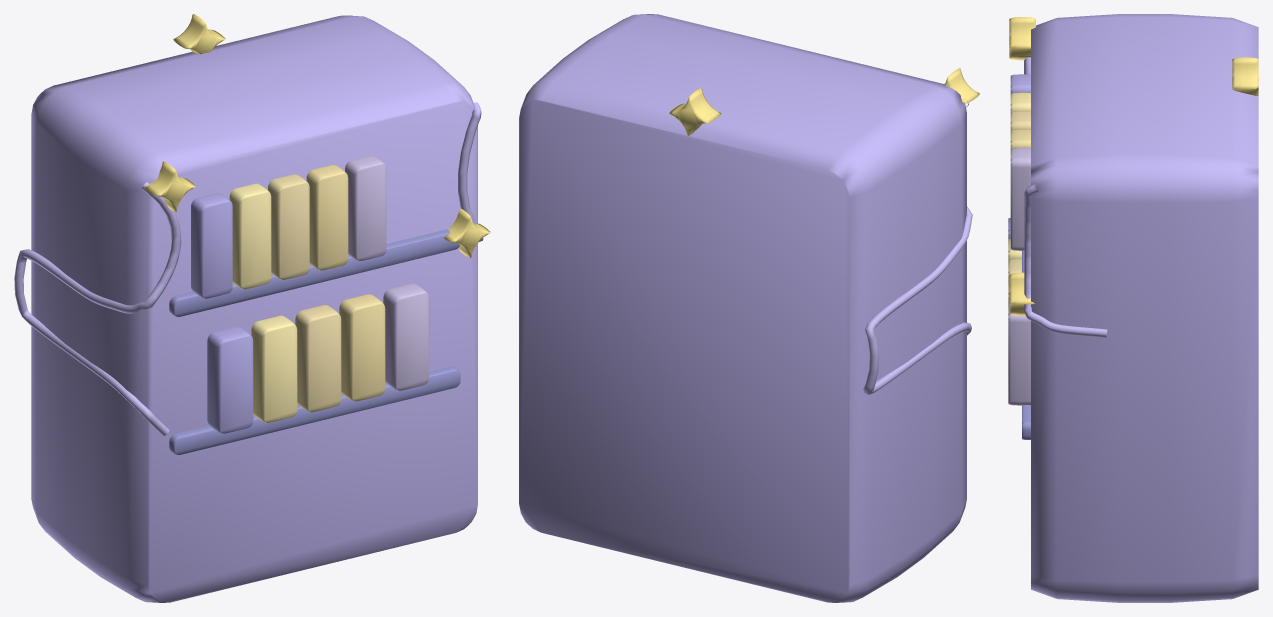
The model's file is decor_6_star.glb.
3 renders of one model, left to right at view 1: azimuth 30°, elevation 25°; view 2: azimuth 150°, elevation 25°; view 3: azimuth 270°, elevation 25°, orthographic. The views are drawn at different scales.
Visible parts, largest first — view 1: decor_6_star; view 2: decor_6_star; view 3: decor_6_star.
Boxes of the visible parts, bbox=[...] form: decor_6_star: bbox=[14, 14, 490, 602]; decor_6_star: bbox=[519, 14, 979, 602]; decor_6_star: bbox=[1008, 14, 1258, 602].
Size of the model in its own units: 13.36 by 16.79 by 8.08.
